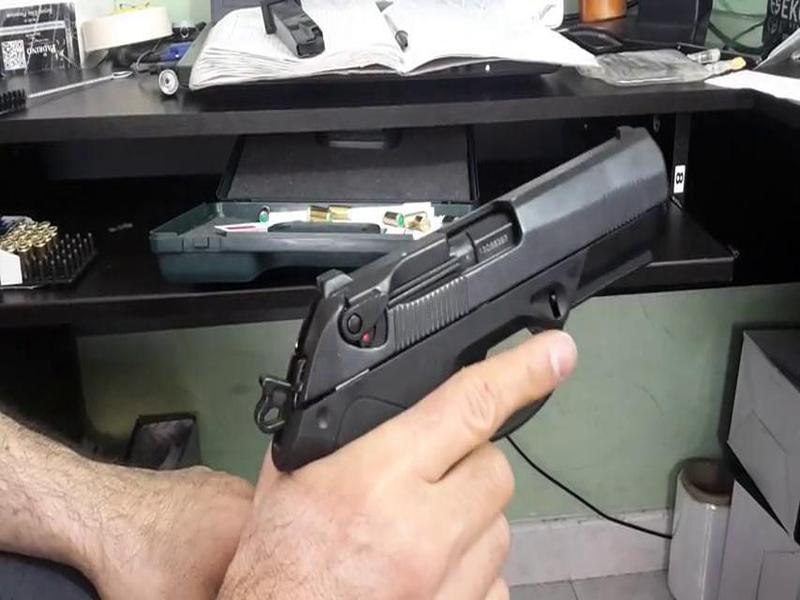Pistola: (266, 114, 682, 493)
